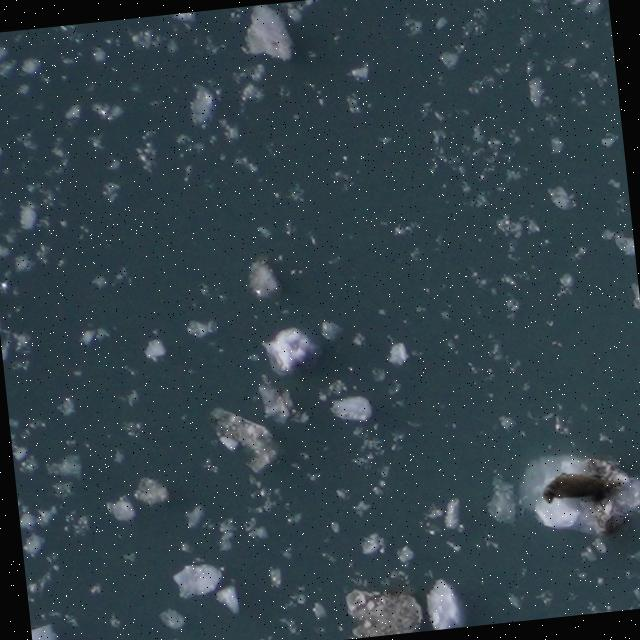seal: (538, 462, 629, 507)
